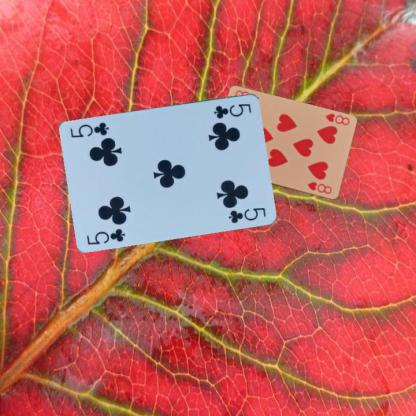5c: (84, 226, 126, 246), (211, 100, 252, 119)
8h: (322, 111, 351, 126)
